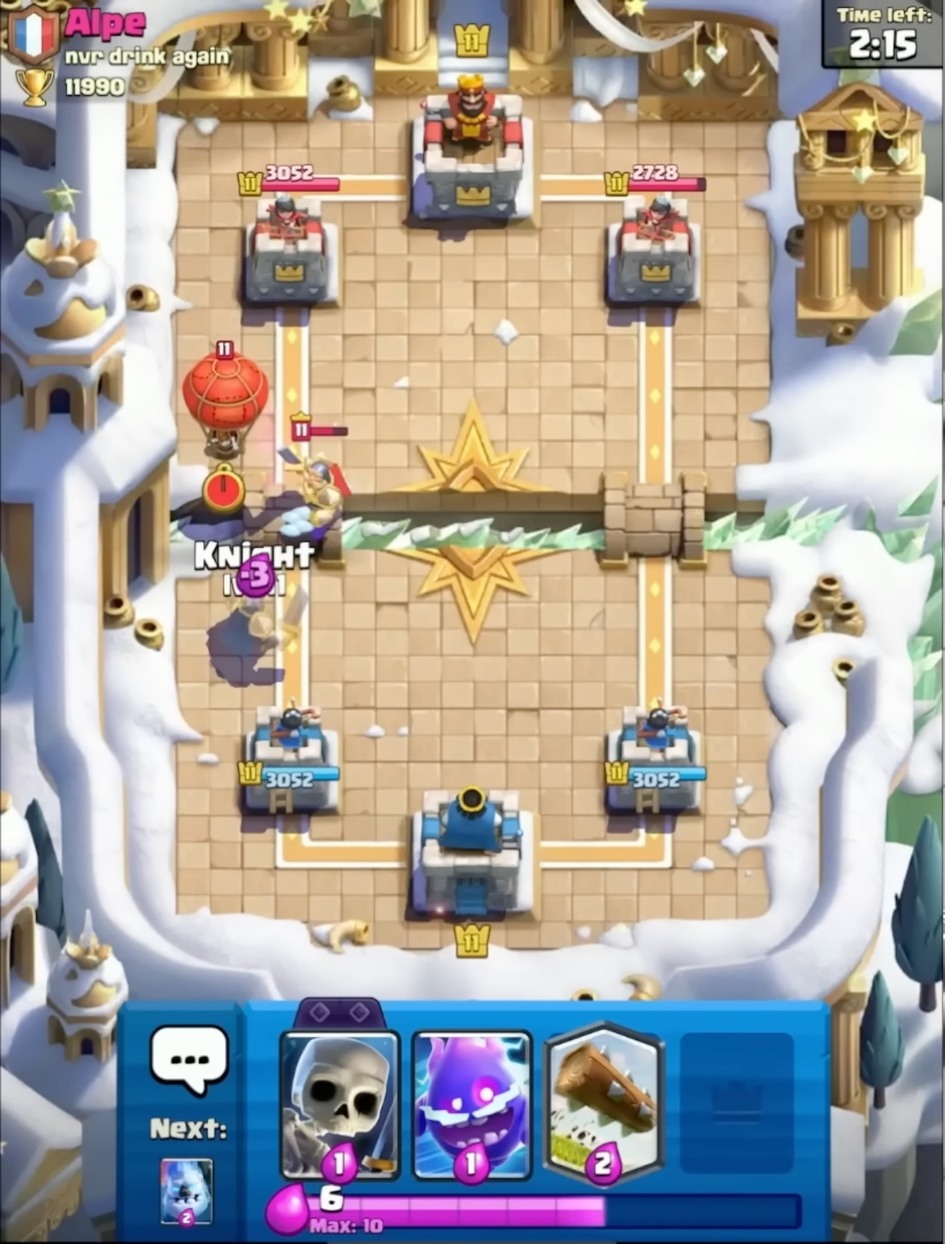balloon: (180, 333, 276, 464)
hero-knight: (273, 408, 363, 546)
